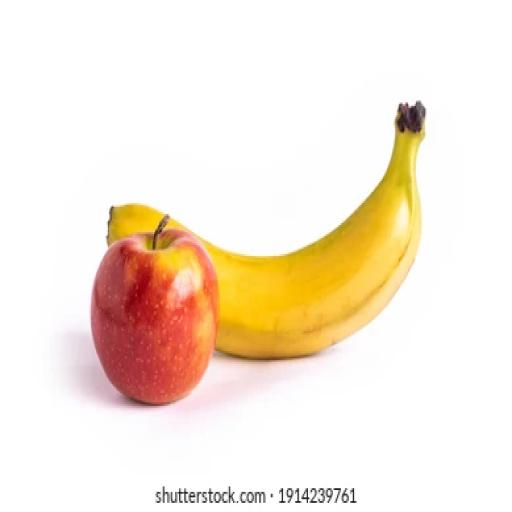apple: (91, 216, 219, 404)
banana: (201, 103, 425, 358)
